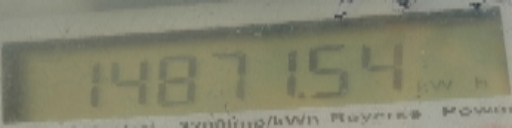1: (259, 42, 303, 102), (83, 59, 104, 115)
4: (361, 33, 405, 93), (107, 50, 146, 115)
5: (310, 39, 354, 99)
7: (206, 48, 250, 108)
8: (157, 48, 201, 108)
d: (296, 86, 313, 103)
